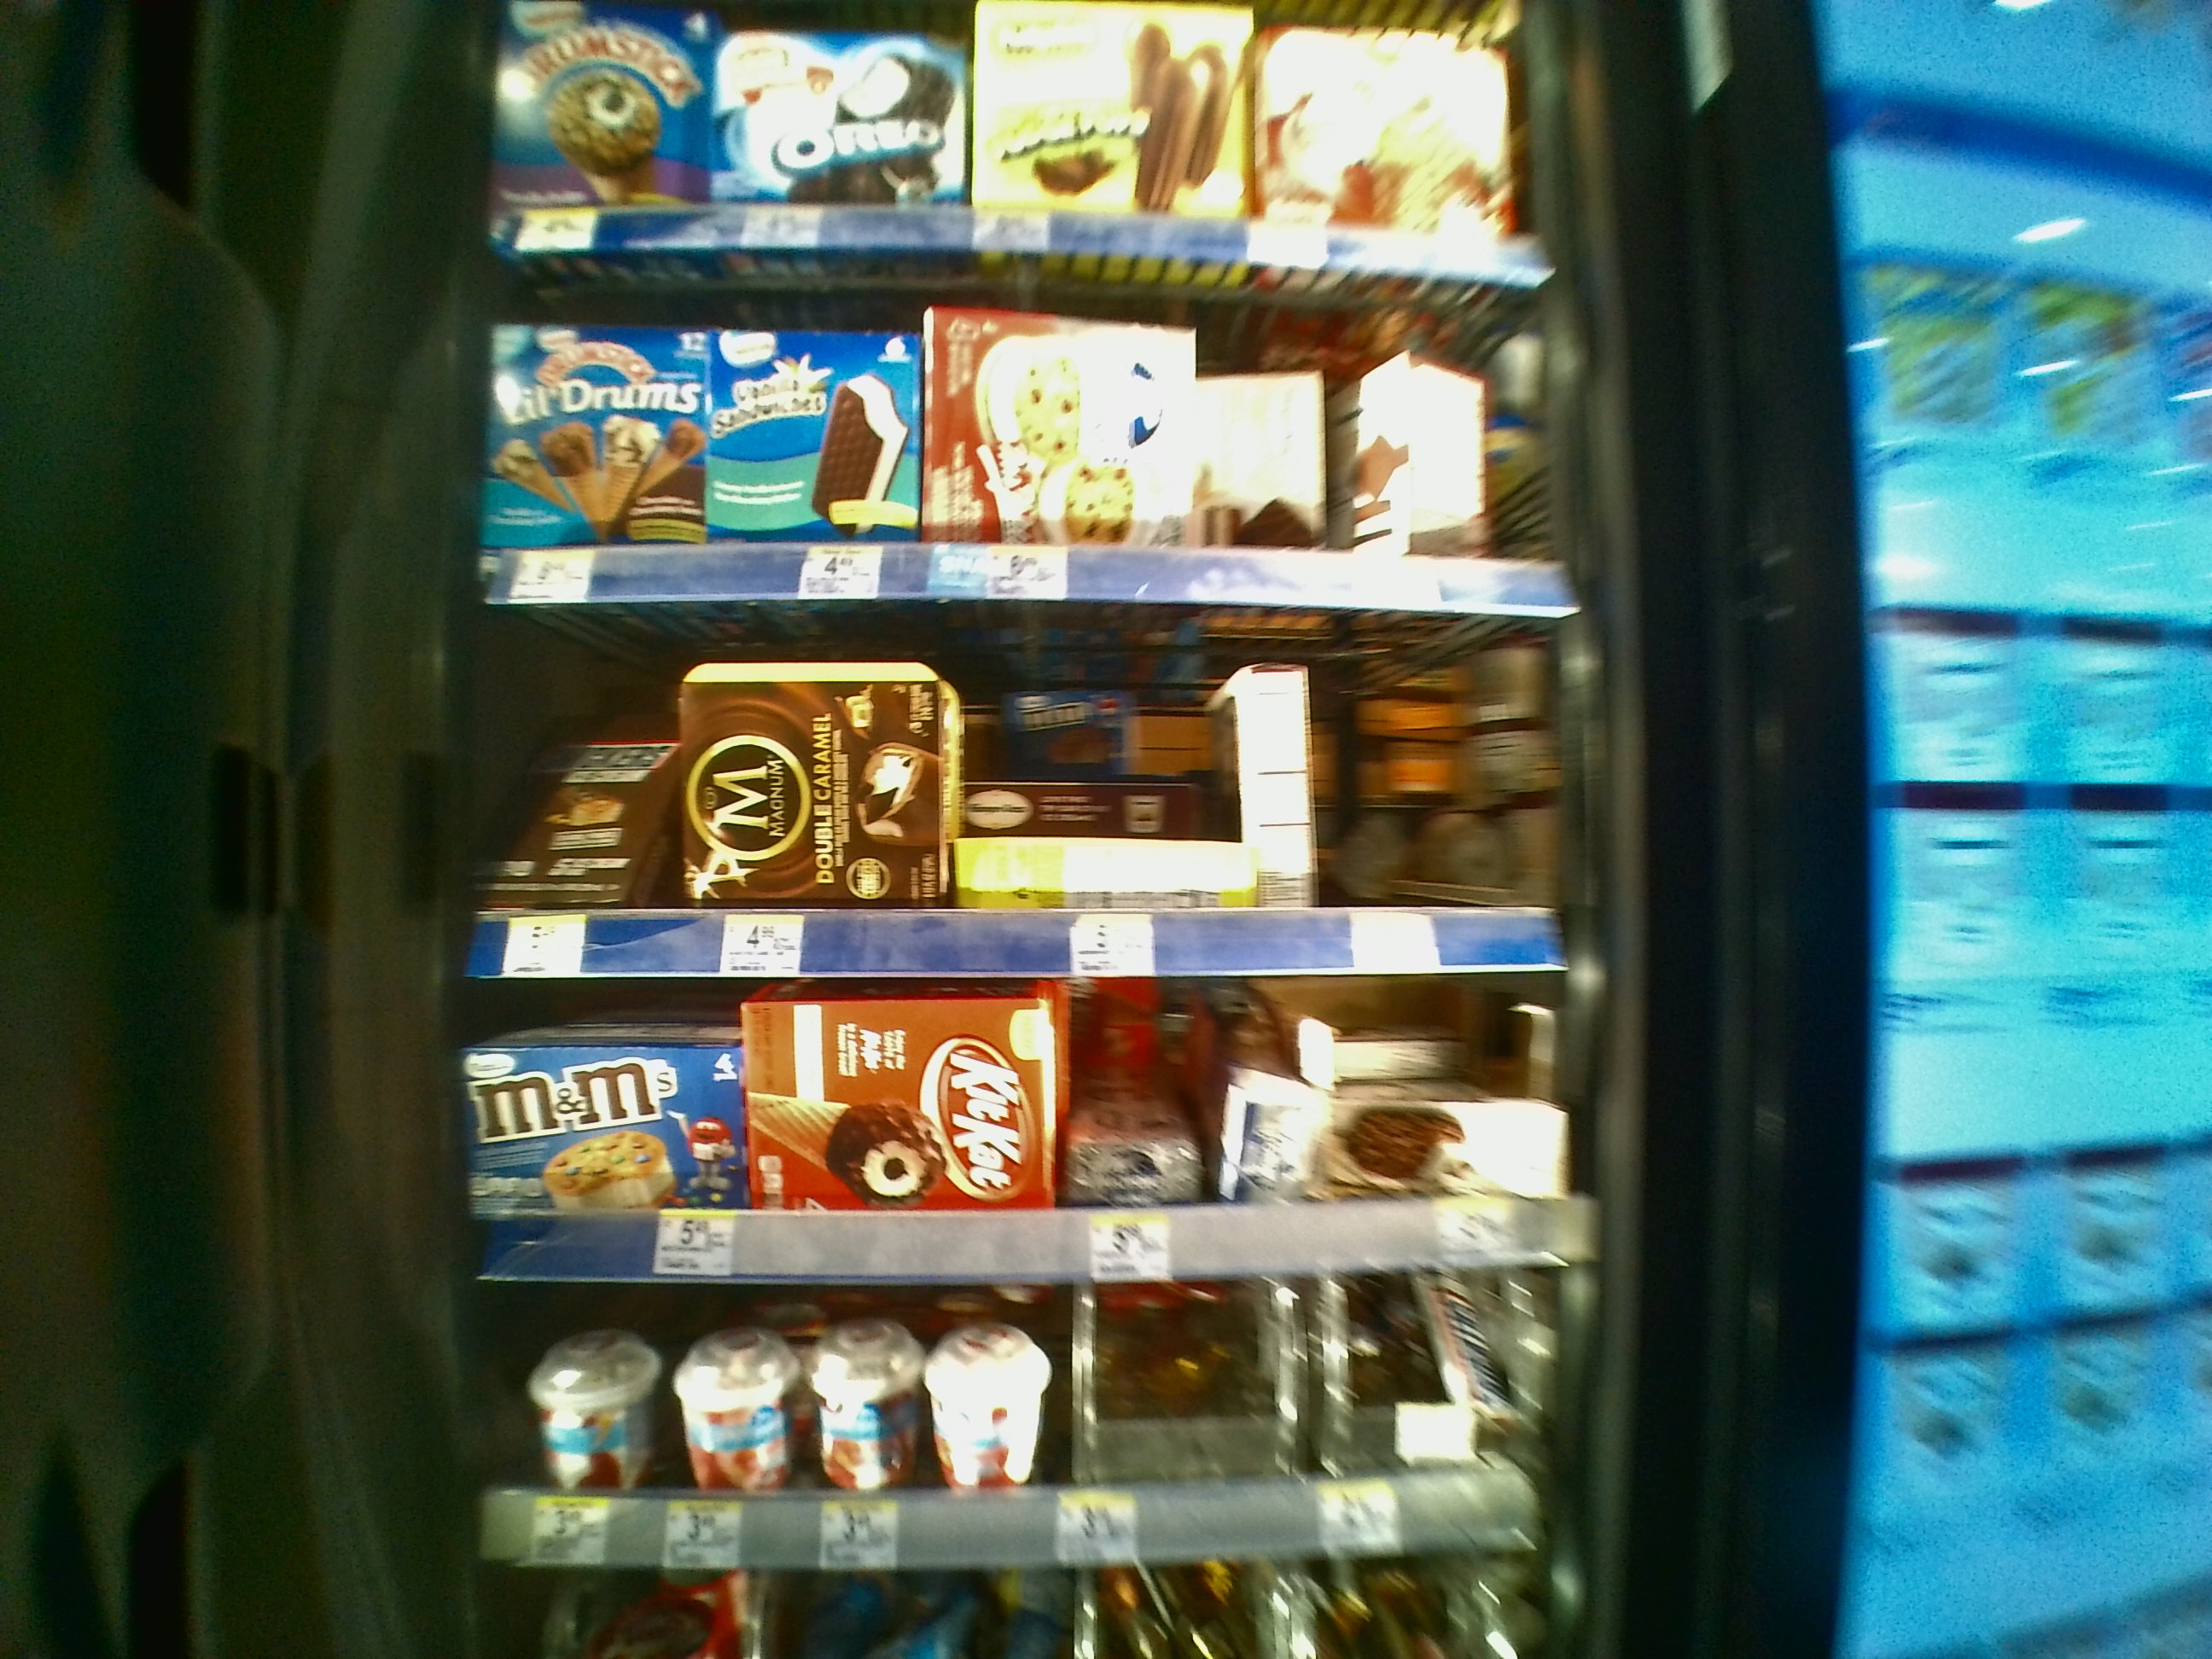shelf: (465, 619, 1576, 972), (474, 254, 1566, 608), (477, 1291, 1566, 1577), (472, 990, 1587, 1269)
